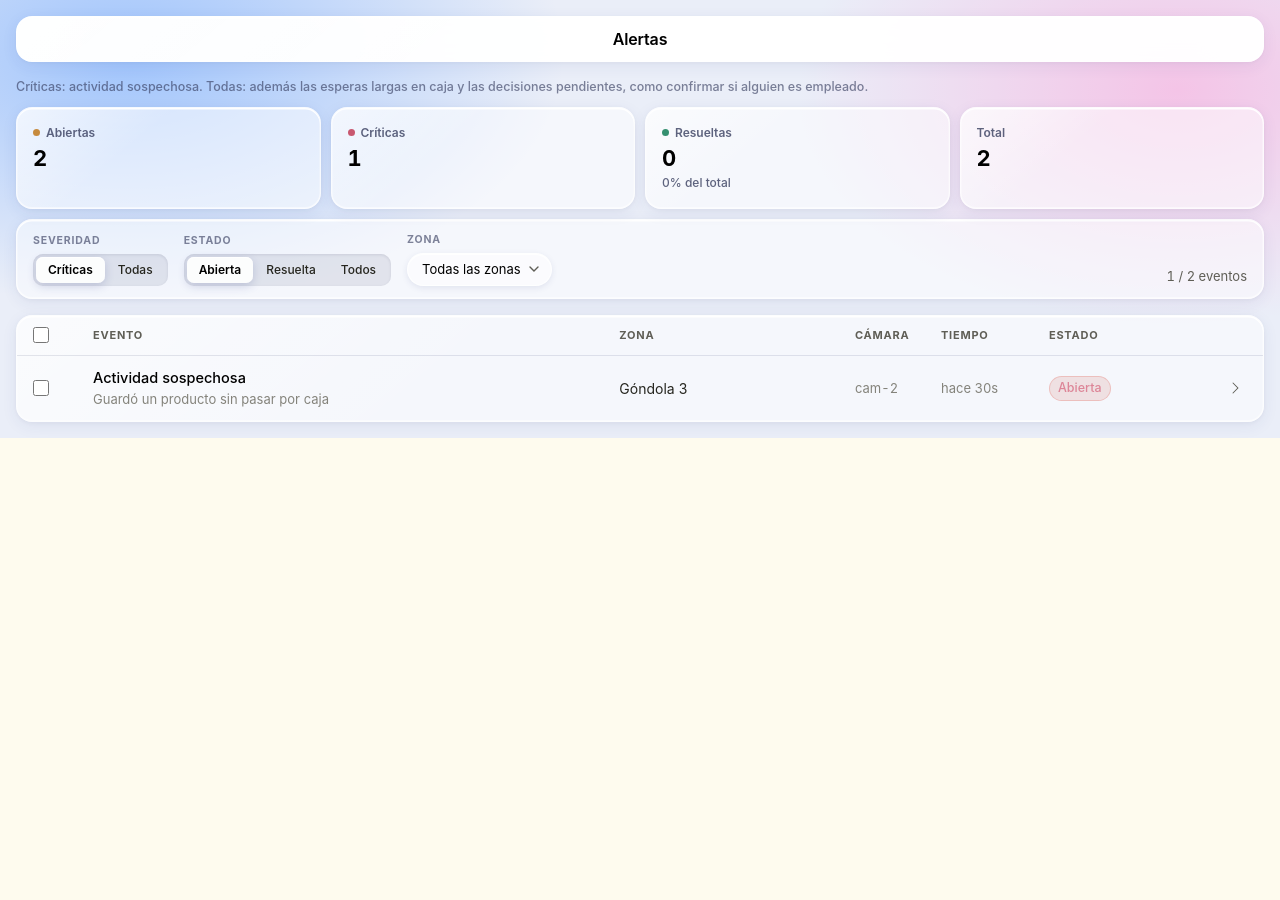
Test: selección › las esperas en caja también se resuelven desde la selección
Expected: the text "Actividad sospechosa" is shown, x1=93 y1=369 x2=246 y2=386
Click the button "Todas": {"x": 135, "y": 270} x1=106 y1=257 x2=165 y2=283
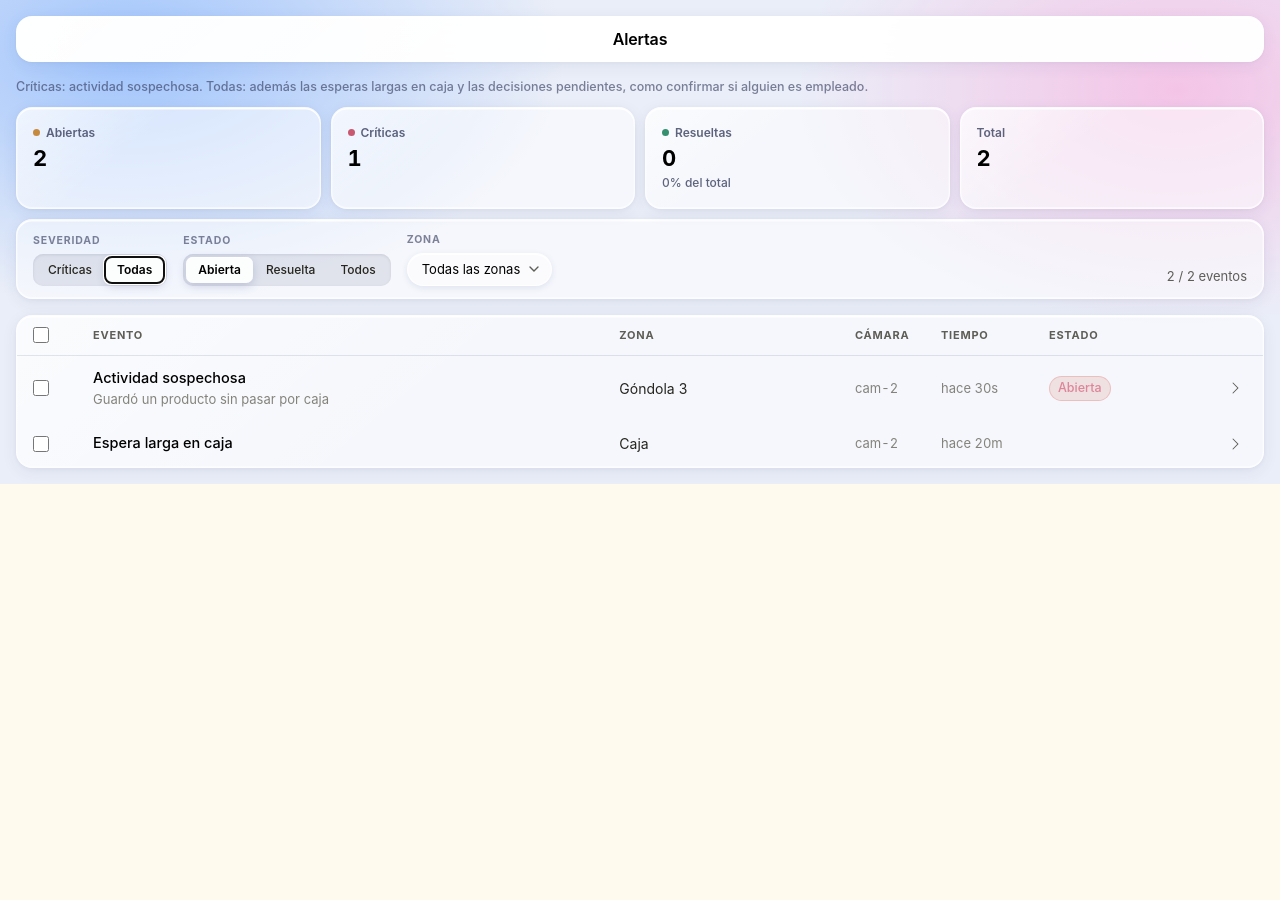
Click the button "Todos": {"x": 358, "y": 270} x1=328 y1=257 x2=388 y2=283
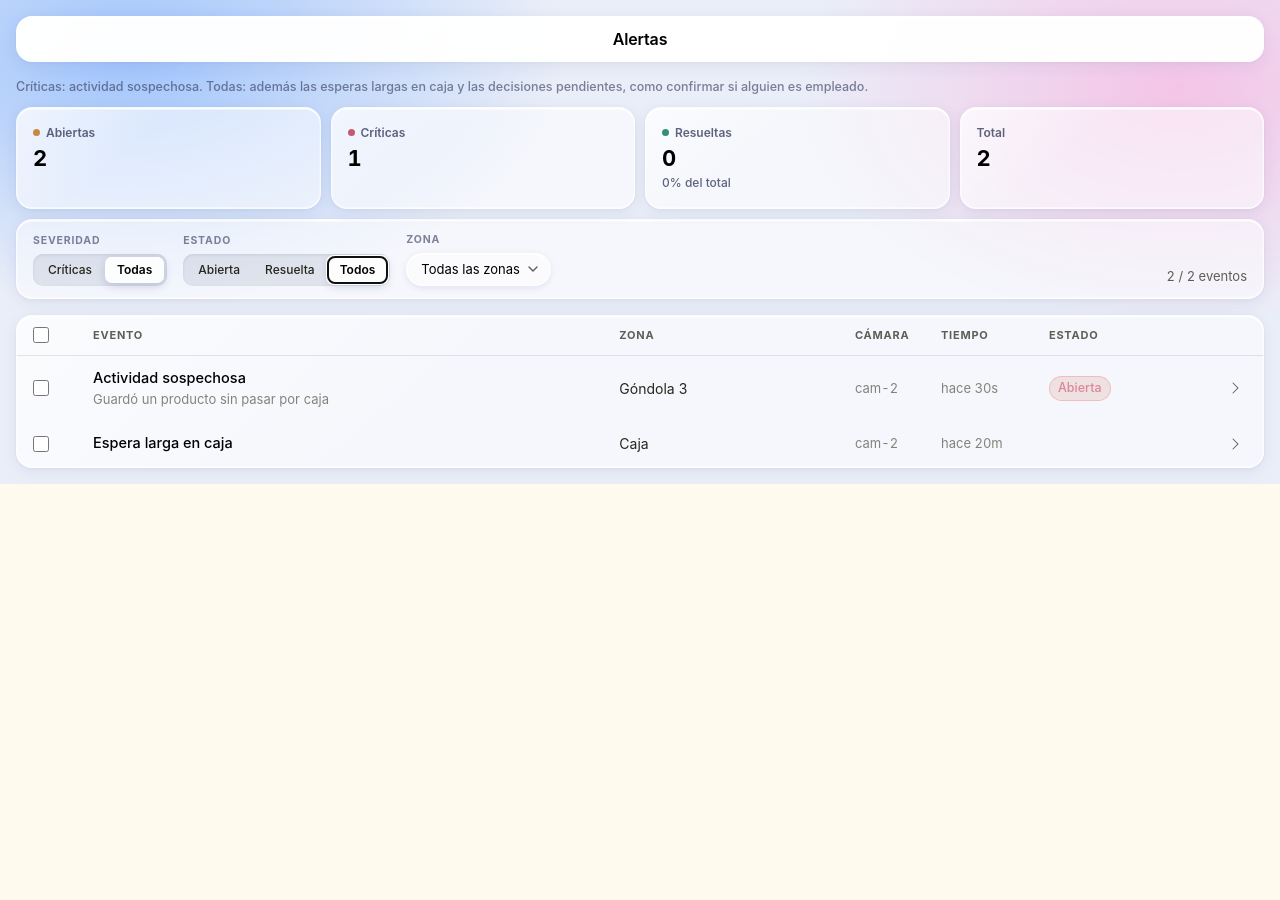
Click the checkbox named "Seleccionar todas": {"x": 41, "y": 335} x1=33 y1=327 x2=49 y2=343
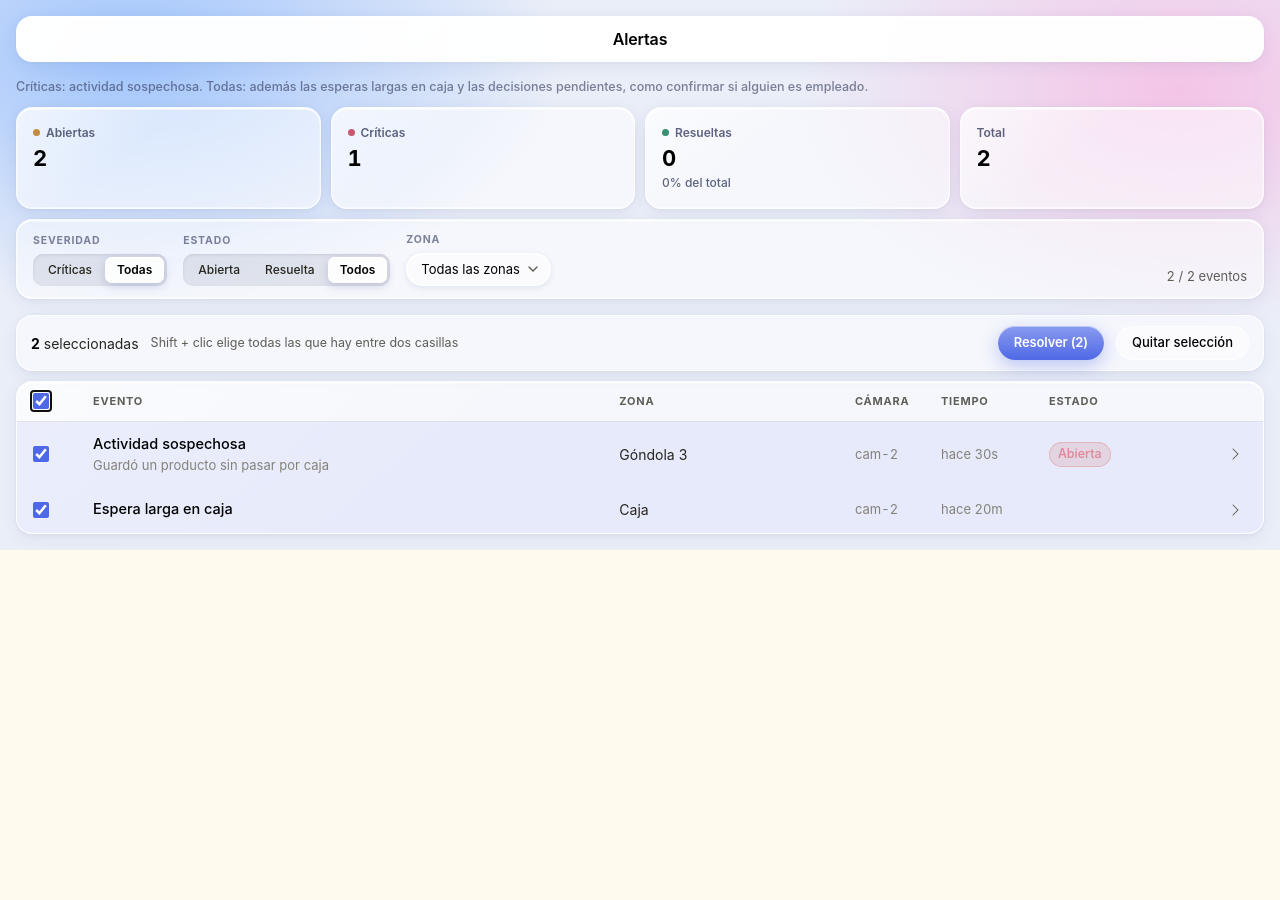
Click the button "Resolver (2)": {"x": 1051, "y": 343} x1=998 y1=326 x2=1104 y2=360
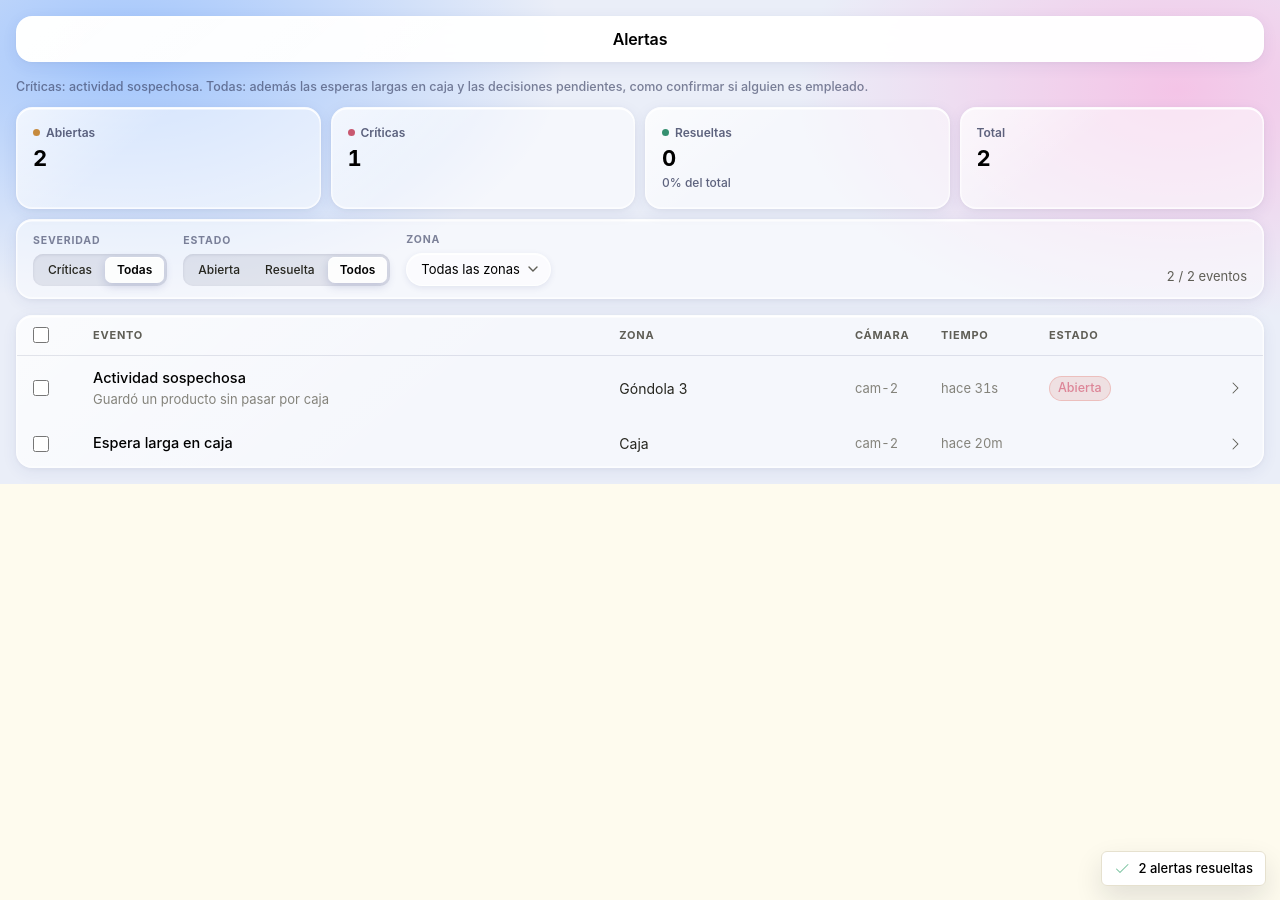
Expected: the text "2 alertas resueltas" is shown, x1=1138 y1=858 x2=1253 y2=878
